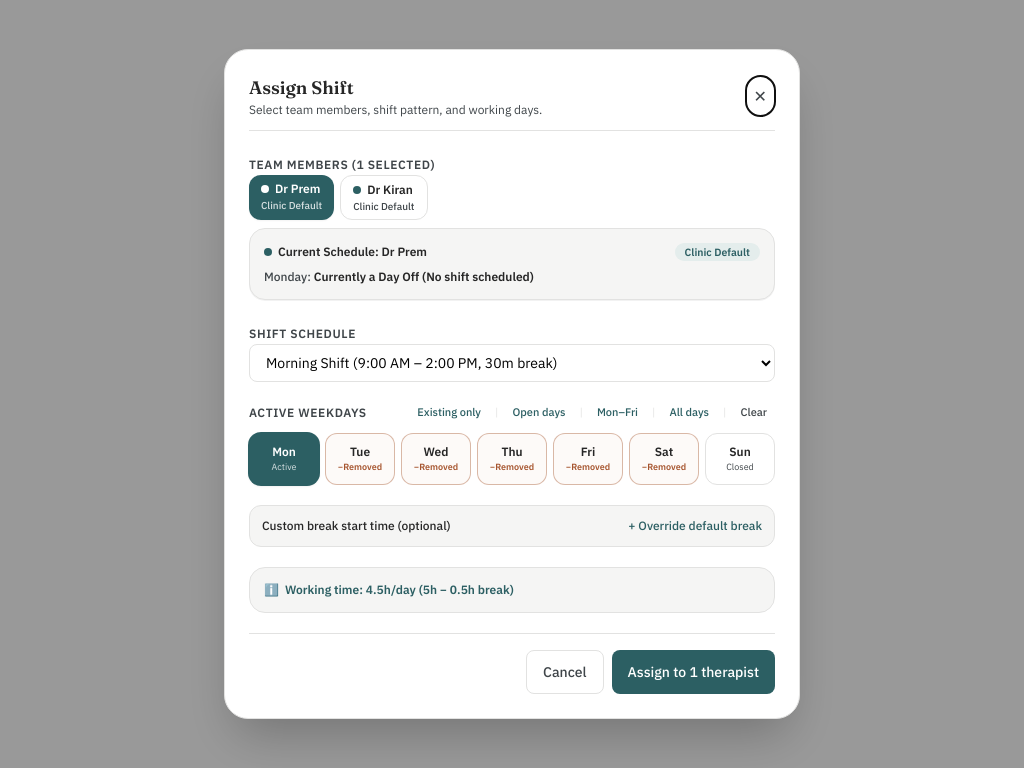
Test case: AssignShiftDialog › supports Clear preset to deselect all days and disables submit
Note: Click Clear
Click the button "Clear": (754, 413) [732,402,775,423]
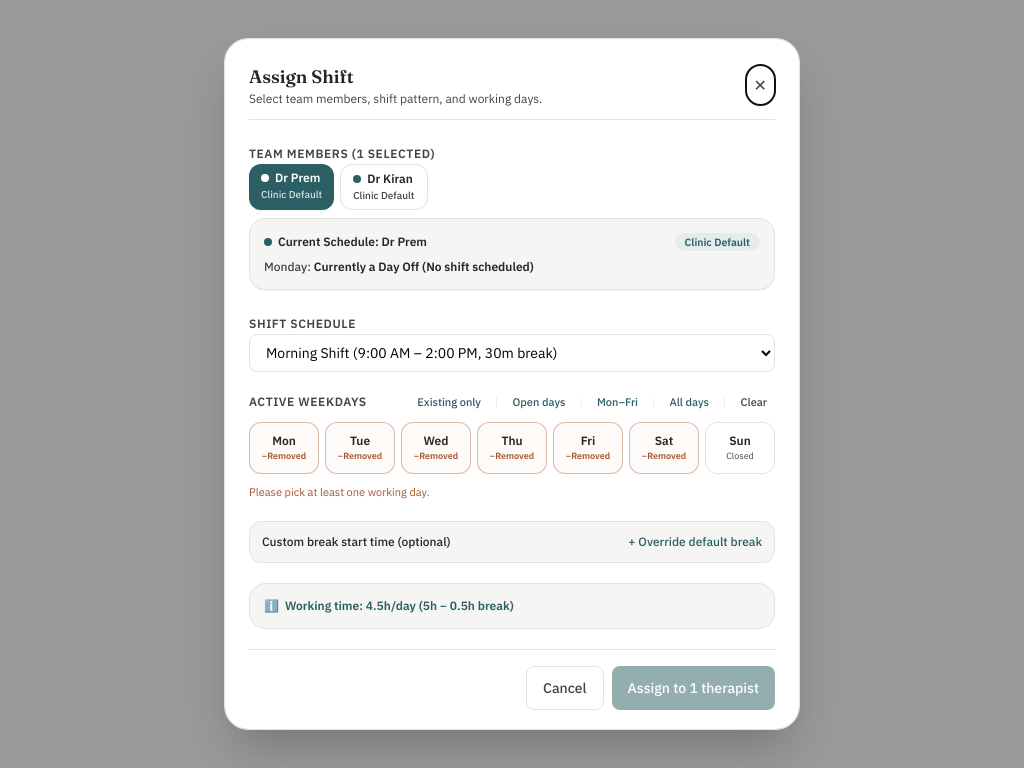
Check: the text "Please pick at least one working day." is shown, box [249,485,430,499]
Check: the button "Assign to 1 therapist" is disabled, box [612,666,775,710]
